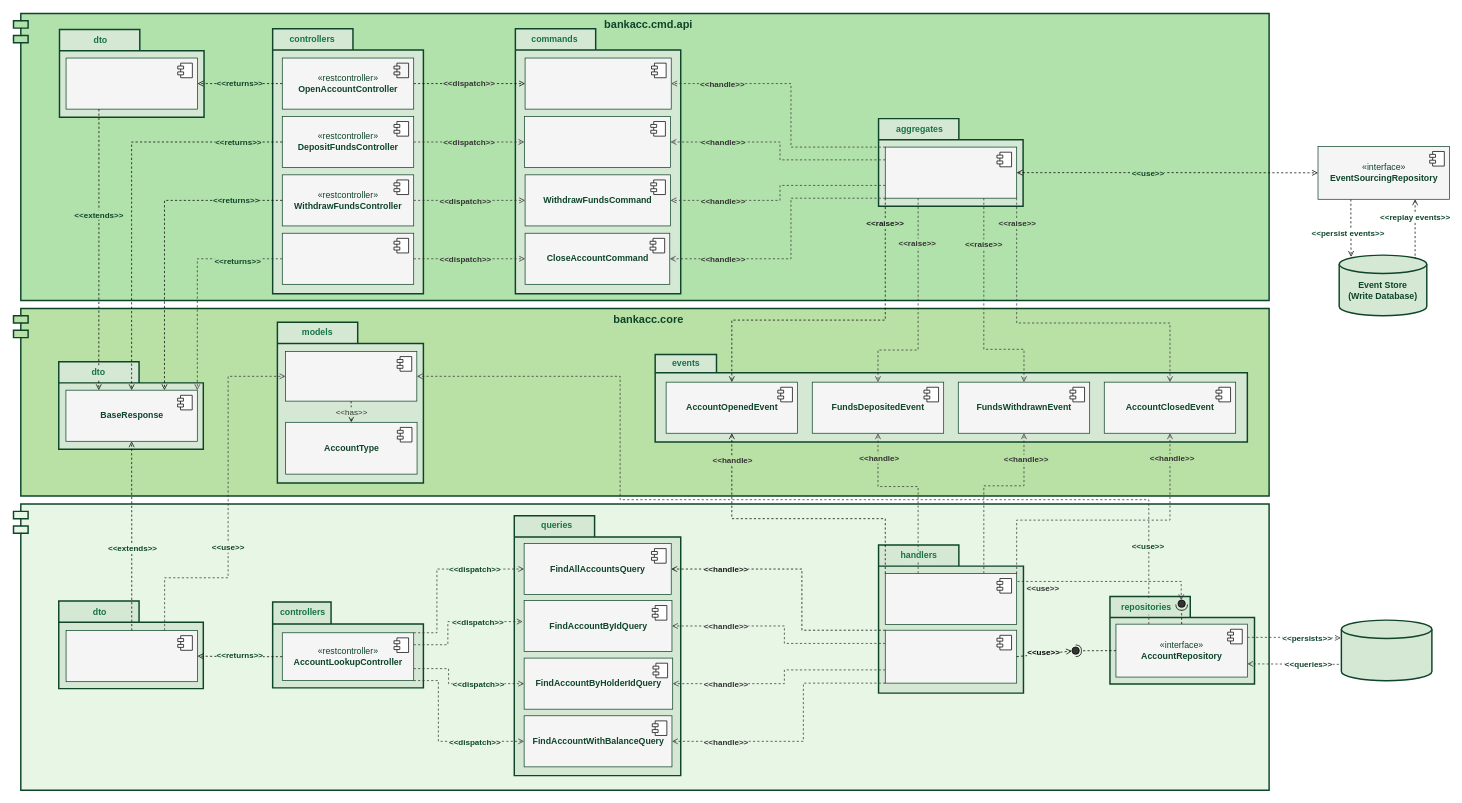
Image size: 1462x803. Some labels were removed from this diagram. Here are the shapes that lost their labels. From the top down, the box of each, then its label:
(65, 57, 197, 109): OpenAccountResponse
(524, 57, 671, 109): OpenAccountCommand
(524, 116, 671, 168): DepositFundsCommand
(885, 146, 1017, 198): «aggregate» AccountAggregate
(282, 233, 414, 284): «restcontroller» CloseAccountController
(285, 351, 417, 401): BankAccount
(885, 573, 1017, 625): «interface» AccountEventHandler
(65, 630, 197, 682): AccountLookupResponse
(12, 503, 1269, 791): bankacc.query.api
(885, 629, 1017, 683): «interface» AccountQueryHandler
(1340, 619, 1432, 681): Bank (Read Database)
